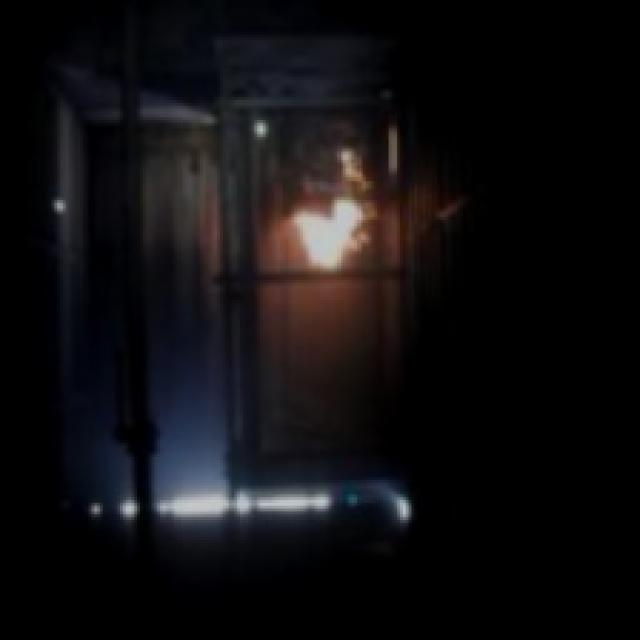fire: (294, 183, 369, 294)
